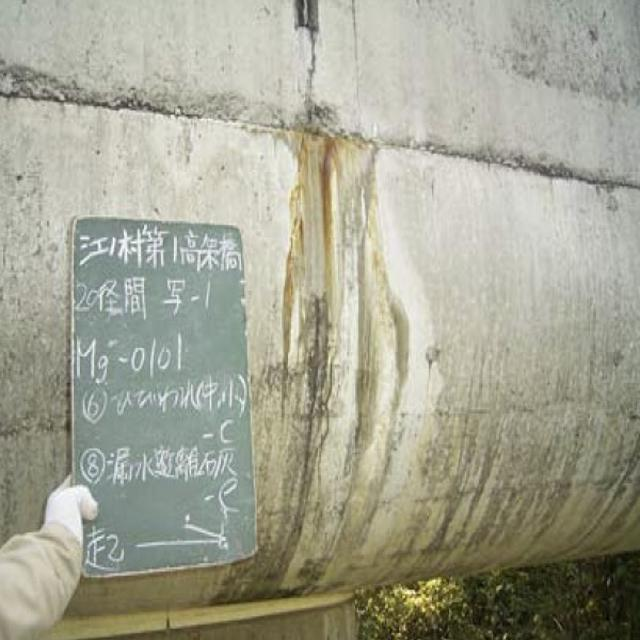leakage: (274, 113, 403, 561)
